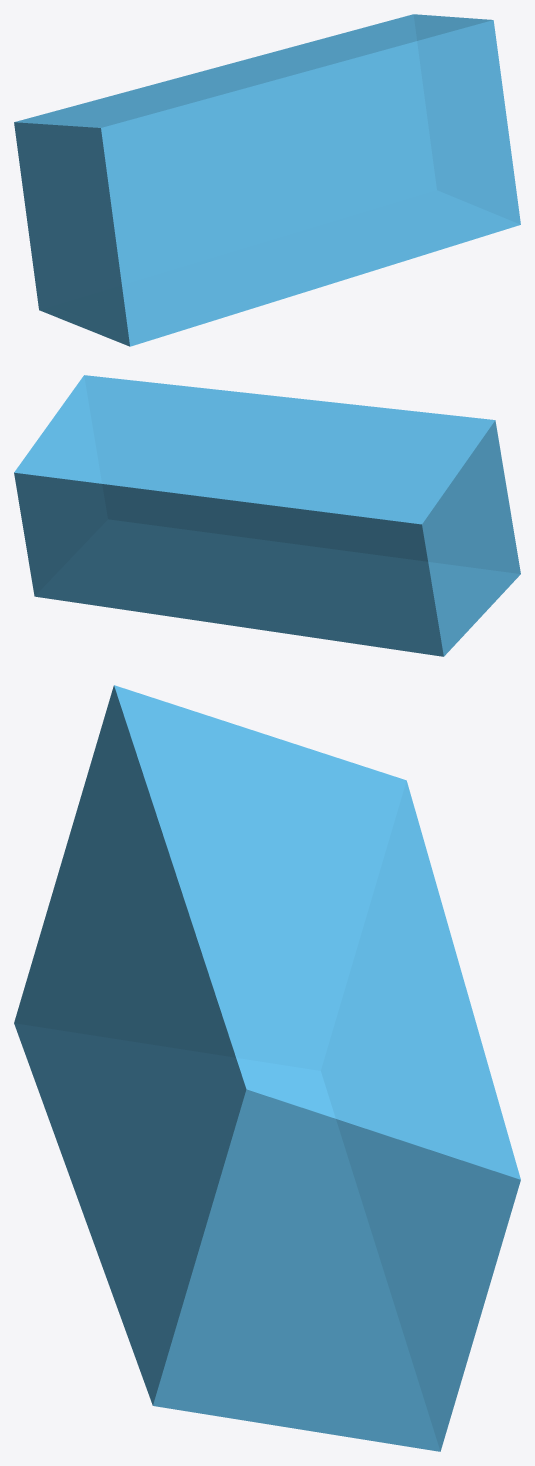
The model's file is Event_420604493_HErechit_32.fbx.
The picture shows the model from 3 angles, top to bottom: view 1: azimuth 30°, elevation 25°; view 2: azimuth 150°, elevation 25°; view 3: azimuth 270°, elevation 25°; orthographic projection. The views are drawn at different scales.
Visible parts, largest first — view 1: Model; view 2: Model; view 3: Model.
Part boxes in pixels (box(x1,y1,x2,y2)): Model: box(14, 14, 520, 346); Model: box(14, 375, 520, 656); Model: box(14, 685, 520, 1451).
Size of the model in its own units: 0.7255 by 0.3799 by 0.4296.
